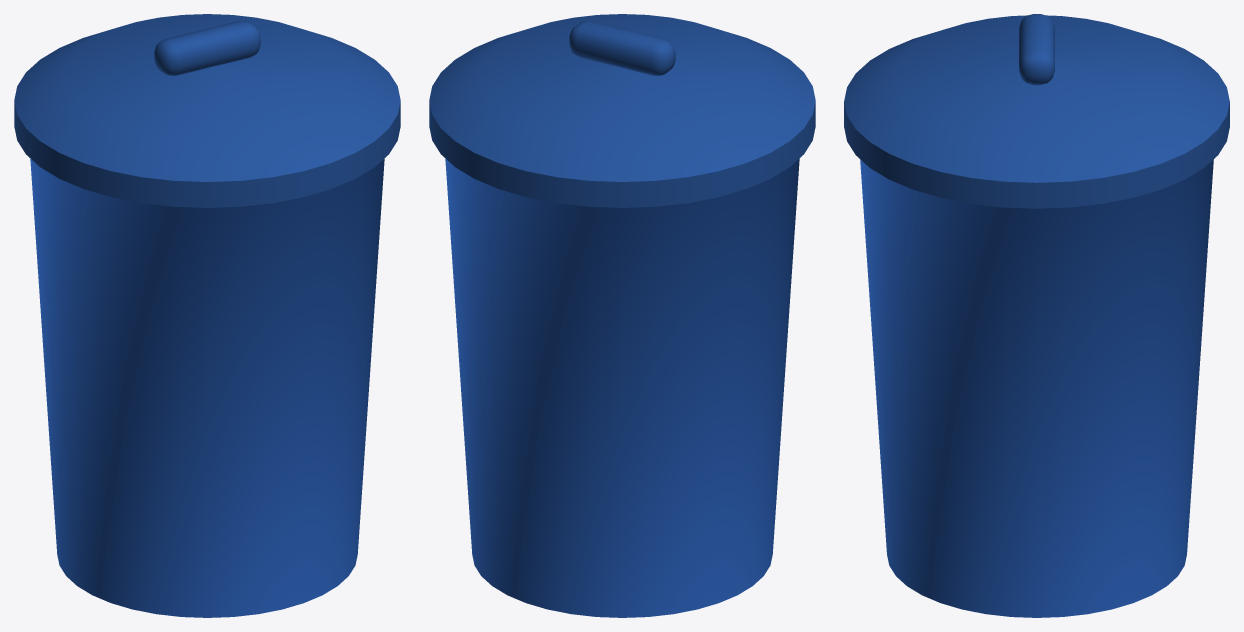
Rendered from bucket.glb.
The picture shows the model from 3 angles, left to right: view 1: azimuth 30°, elevation 25°; view 2: azimuth 150°, elevation 25°; view 3: azimuth 270°, elevation 25°; orthographic projection.
Parts seen in each view (by area): view 1: bucket_body; view 2: bucket_body; view 3: bucket_body.
Part boxes in pixels (bbox=[...]): bucket_body: bbox=[14, 14, 400, 617]; bucket_body: bbox=[429, 14, 815, 617]; bucket_body: bbox=[844, 14, 1229, 617].
Size of the model in its own units: 0.54 by 0.805 by 0.54.
